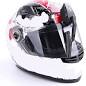helmets: (1, 0, 86, 84)
